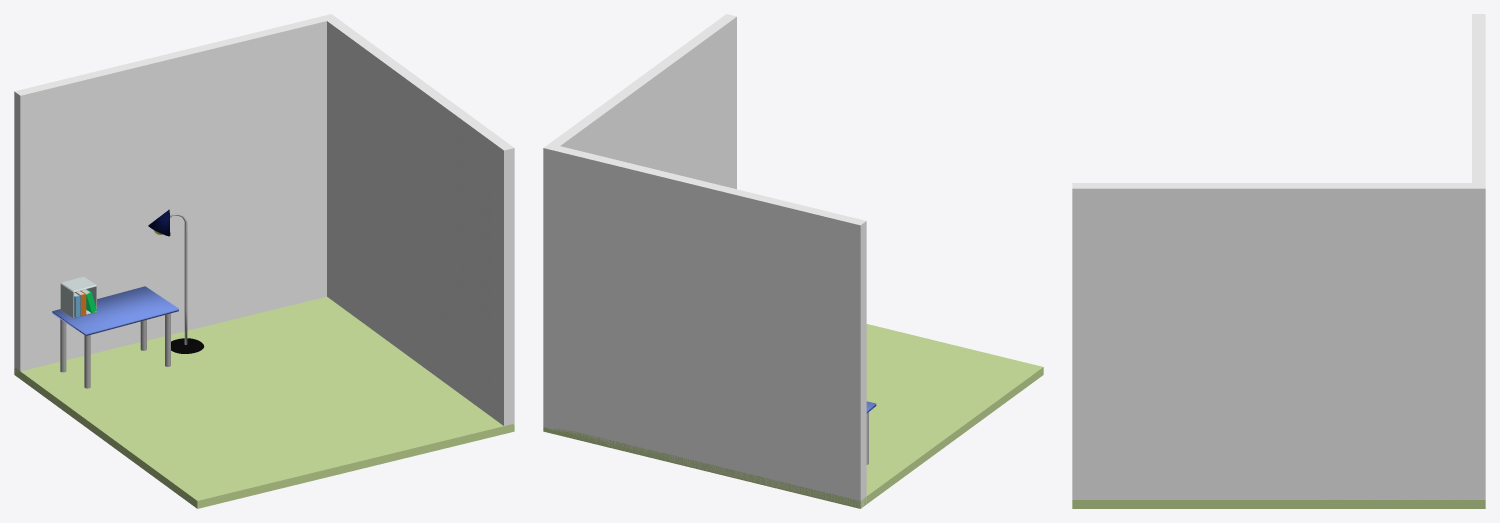
Rendered from miniroomBeta.glb.
3 renders of one model, left to right at view 1: azimuth 30°, elevation 25°; view 2: azimuth 150°, elevation 25°; view 3: azimuth 270°, elevation 25°, orthographic. The views are drawn at different scales.
Parts seen in each view (by area): view 1: 큐브, 평면, 큐브.001, 평면.001, 실린더, 큐브.002; view 2: 큐브, 평면, 큐브.001; view 3: 큐브.001, 큐브, 평면.
Part boxes in pixels (x1,y1,x2,y2): 큐브: (14,14,336,373); 평면: (14,296,514,508); 큐브.001: (321,14,514,425); 평면.001: (52,286,178,335); 실린더: (60,313,170,388); 큐브.002: (60,276,96,318); 큐브: (543,145,866,507); 평면: (543,324,1043,508); 큐브.001: (543,14,736,429); 큐브.001: (1072,183,1485,503); 큐브: (1472,14,1485,499); 평면: (1072,500,1485,508).
Size of the model in its own units: 30 by 25.64 by 30.
